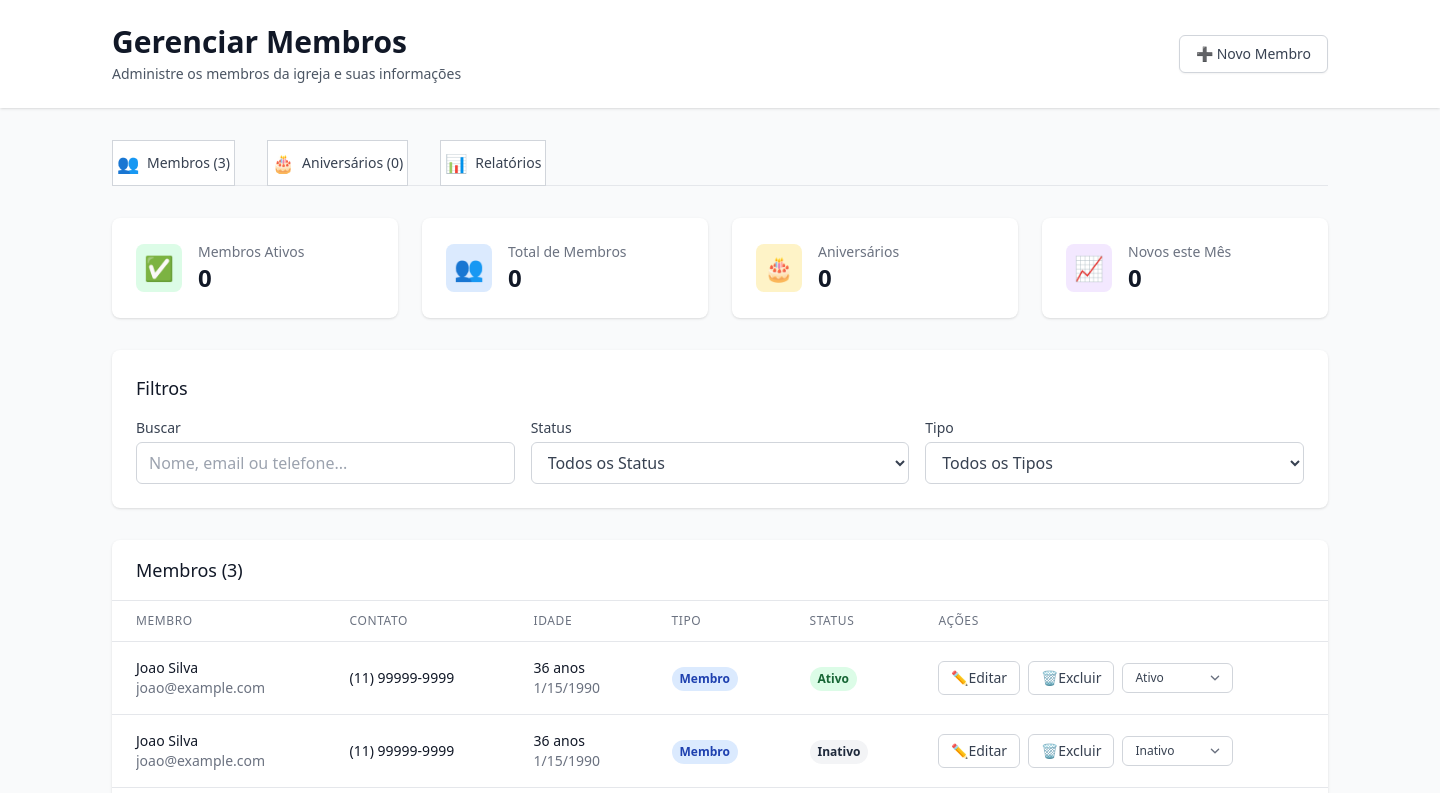
MembersManagementPage › Reports Tab › should display general statistics
Expected: the 1st text "Joao Silva" is shown, [136,658,198,677]
Note: Switch to reports tab
Click the button "📊 Relatórios": [493, 163] box [440,140,546,186]
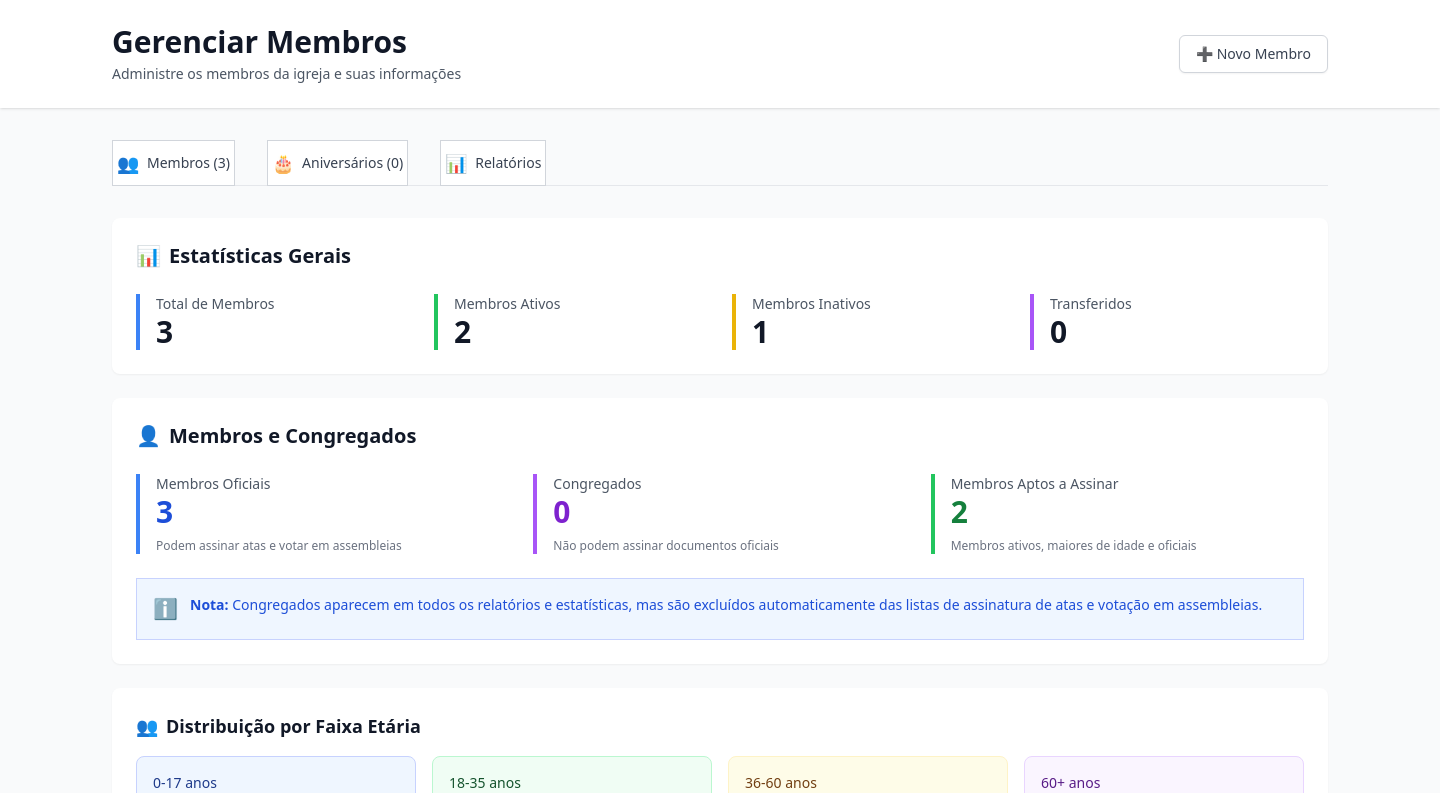
Expected: the text "Total de Membros" is shown, [156,294,275,313]
Expected: the text "Membros Inativos" is shown, [752,294,871,313]
